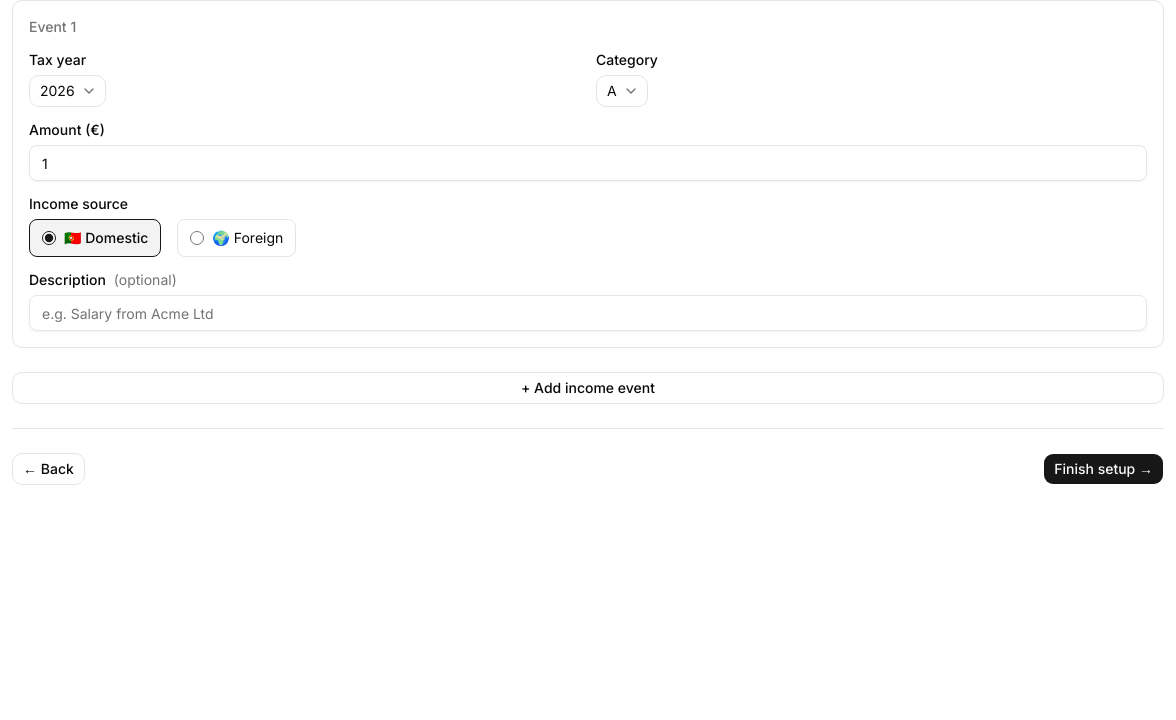
Test: Step3Income › shows source country input when FOREIGN is selected
Click the radio button labelled "🌍 Foreign".
click(197, 238)  # box [190, 231, 204, 245]
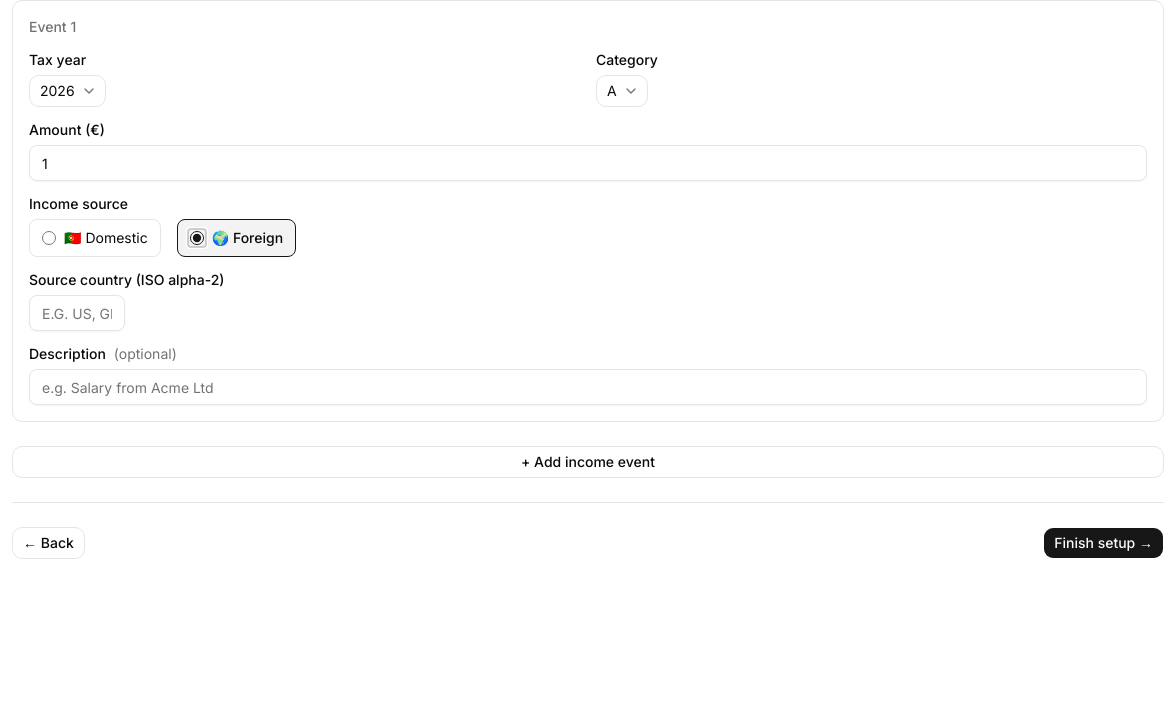
Now the field labelled "Source country (ISO alpha-2)" is shown, box [29, 295, 125, 331]
